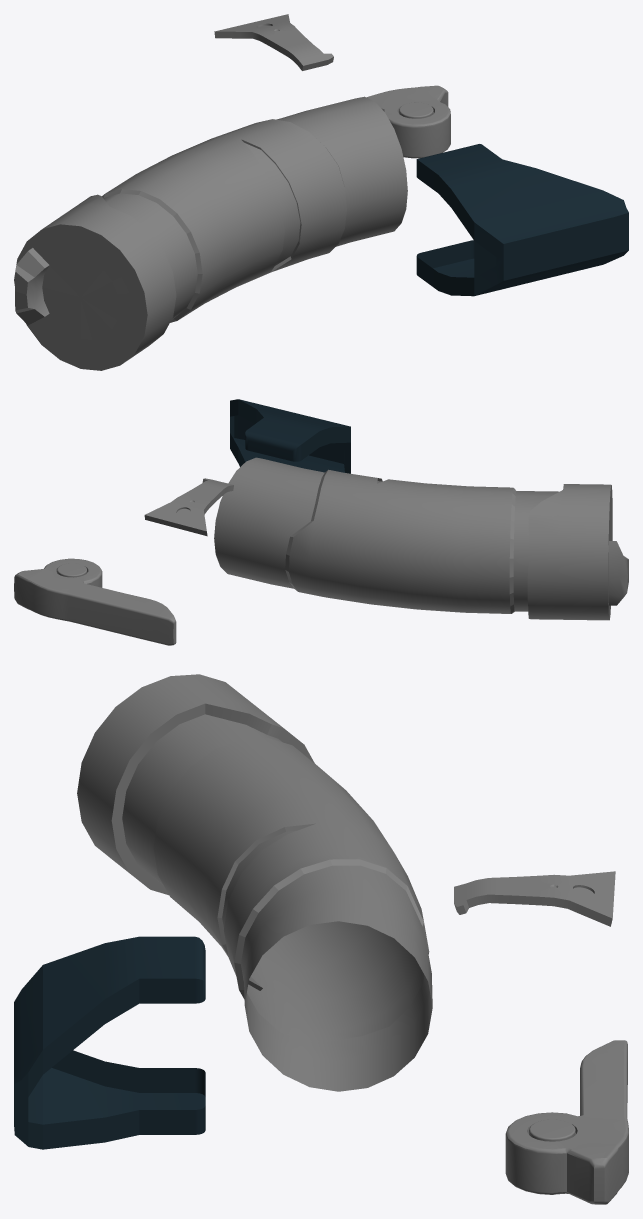
Rendered from Zombie_Sword_Lever2.obj.
3 views of the same model, one above another, from view 1: azimuth 30°, elevation 25°; view 2: azimuth 150°, elevation 25°; view 3: azimuth 270°, elevation 25° (orthographic). The views are drawn at different scales.
Visible parts, largest first — view 1: pCylinder5, pPlane12, Zombie_Sword_Lever, polySurface3 pPlane13; view 2: pCylinder5, Zombie_Sword_Lever, pPlane12, polySurface3 pPlane13; view 3: pCylinder5, pPlane12, Zombie_Sword_Lever, polySurface3 pPlane13.
Part boxes in pixels (x1,y1,x2,y2): pCylinder5: (14, 96, 407, 370); pPlane12: (416, 144, 628, 296); Zombie_Sword_Lever: (276, 85, 450, 158); polySurface3 pPlane13: (214, 14, 333, 70); pCylinder5: (214, 457, 628, 620); Zombie_Sword_Lever: (14, 558, 176, 645); pPlane12: (230, 399, 350, 473); polySurface3 pPlane13: (144, 478, 233, 536); pCylinder5: (77, 674, 432, 1091); pPlane12: (14, 936, 205, 1149); Zombie_Sword_Lever: (505, 1040, 628, 1204); polySurface3 pPlane13: (454, 871, 615, 926).
Size of the model in its own units: 7.51 by 1.92 by 5.23.
